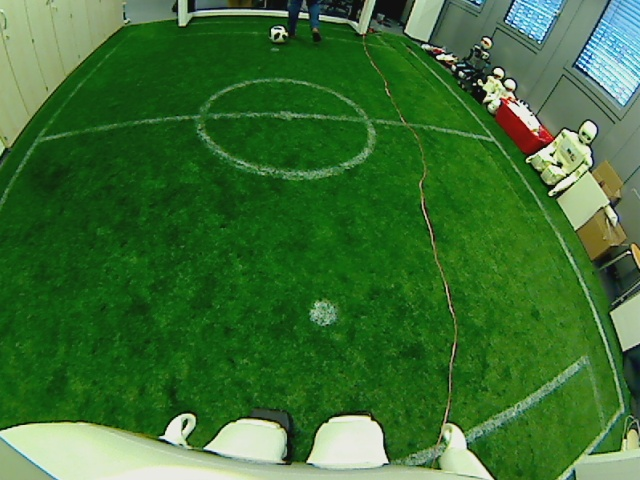ball: (269, 25, 288, 44)
